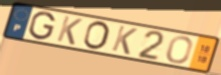2: (136, 30, 165, 62)
G: (27, 11, 57, 41)
K: (55, 14, 84, 47), (110, 24, 139, 56)
O: (81, 20, 111, 51), (165, 35, 194, 65)
